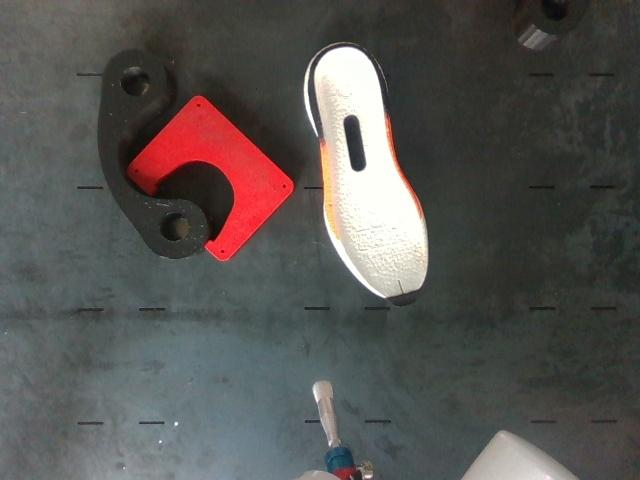shoes: (314, 46, 425, 306)
